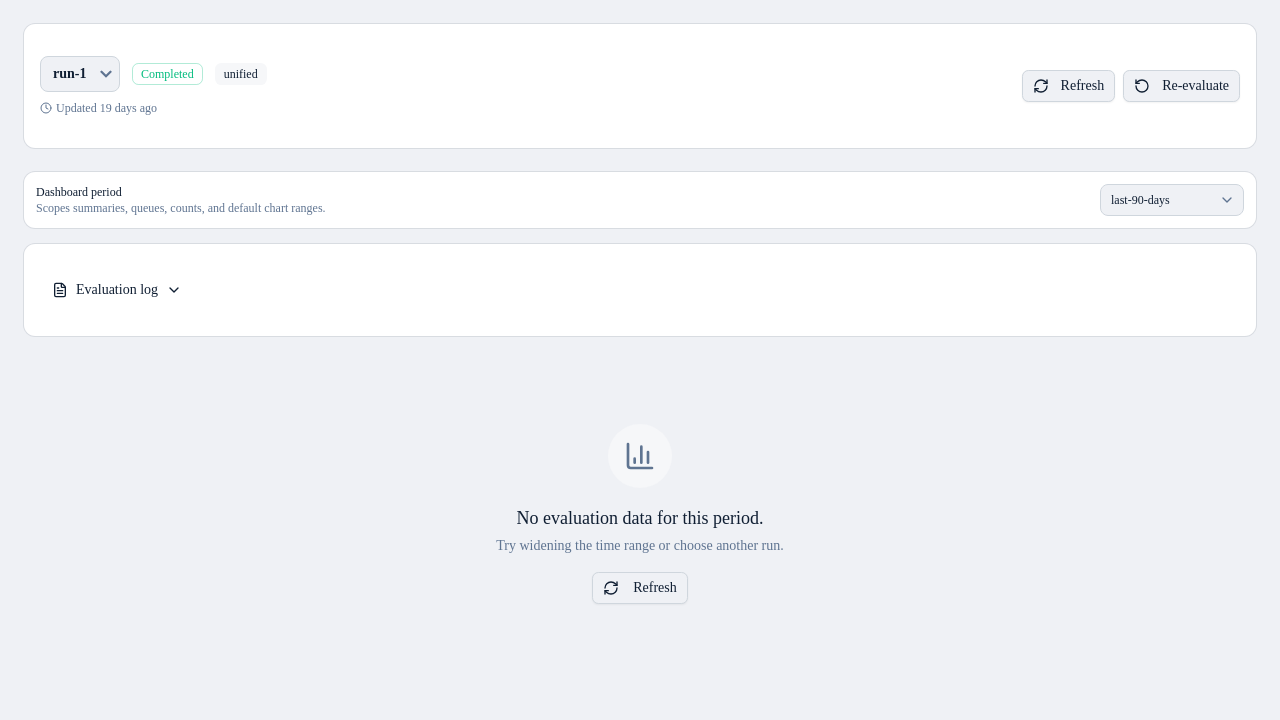
Test: Monitor page evaluation configuration › submits one typed live launch and refetches all run views after acceptance
The width and height of the screenshot is (1280, 720).
Click the button "Re-evaluate": point(1182, 86) x1=1123 y1=70 x2=1240 y2=102
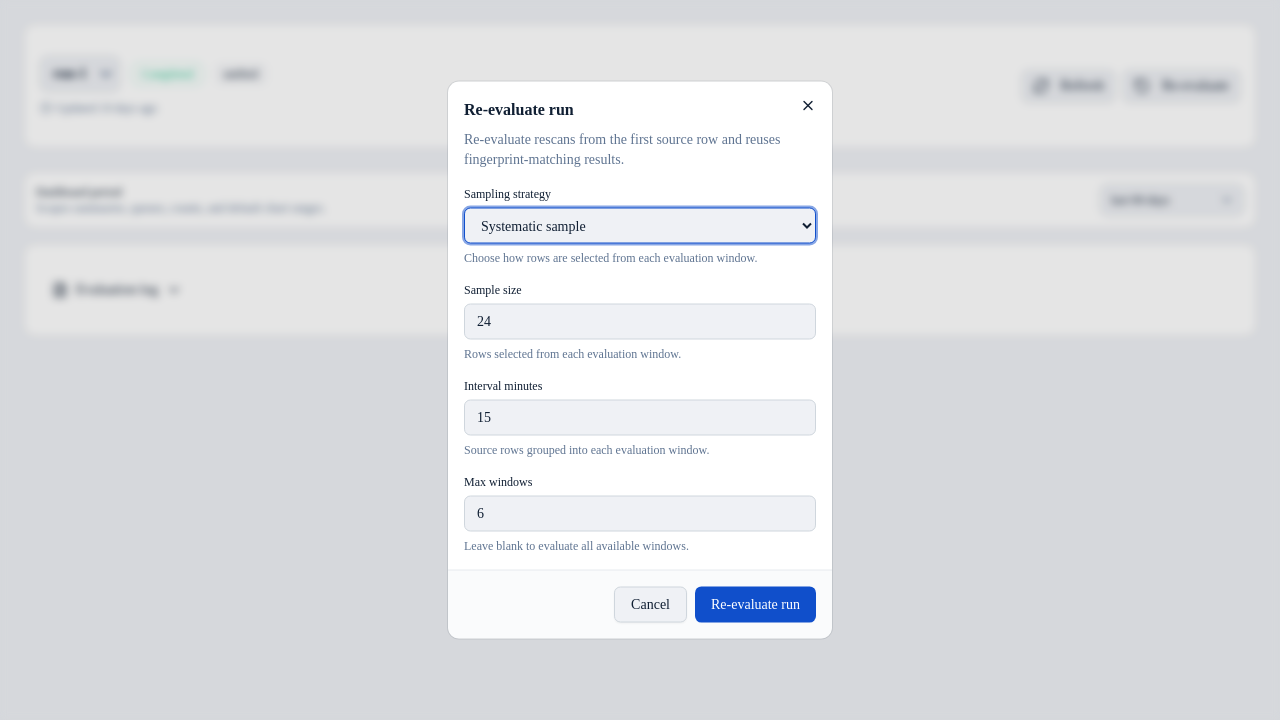
Replace the text in the number field labelled "Interval minutes" with "30": point(640, 418) x1=464 y1=400 x2=816 y2=436
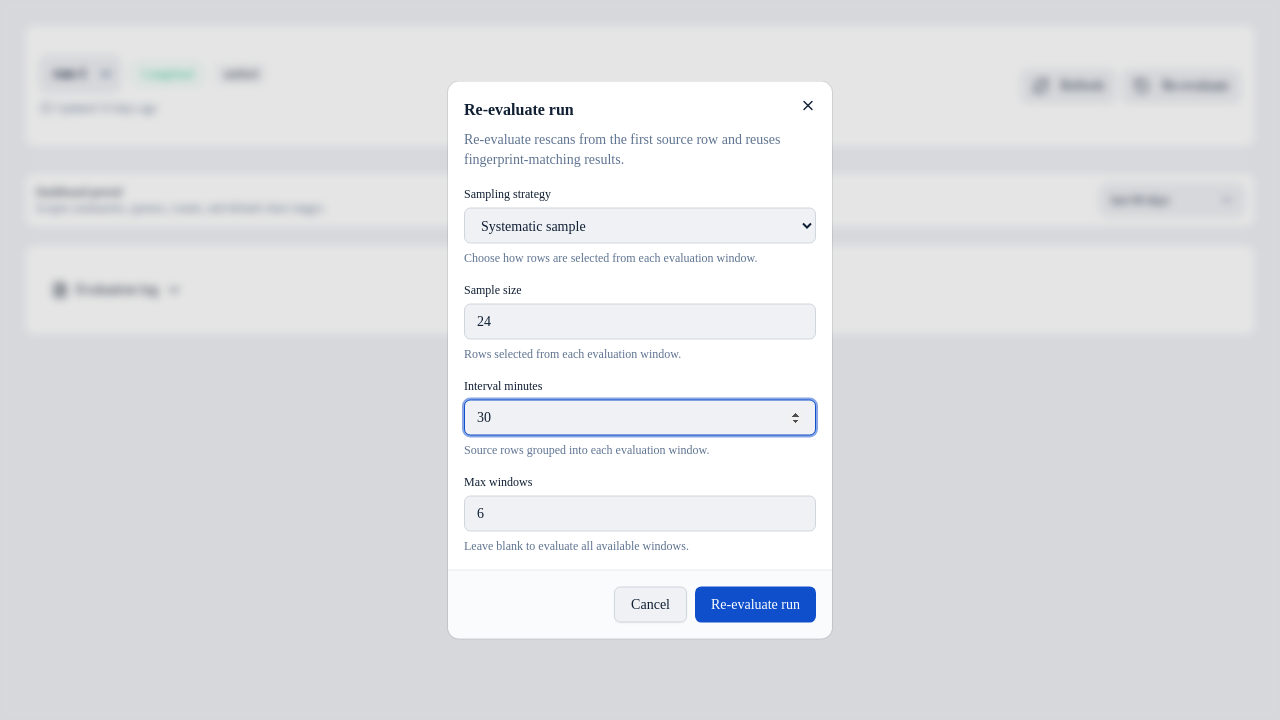
Click the button "Re-evaluate run": point(756, 604) x1=695 y1=586 x2=816 y2=622
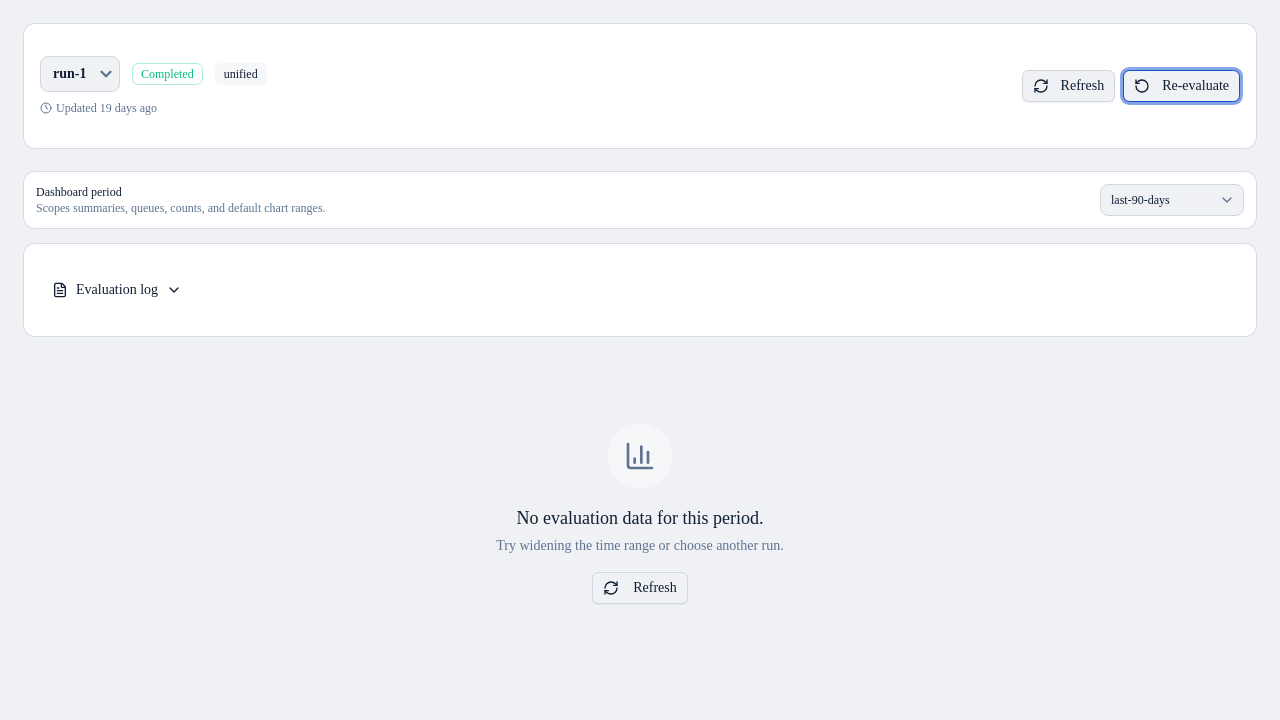
Now the heading "Re-evaluate run" is gone
